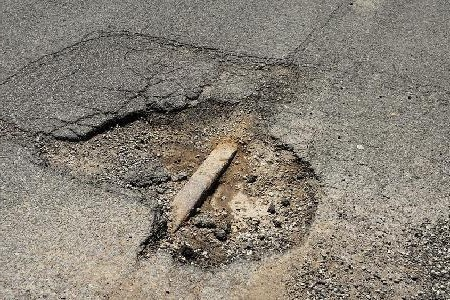pothole: (32, 93, 326, 274)
